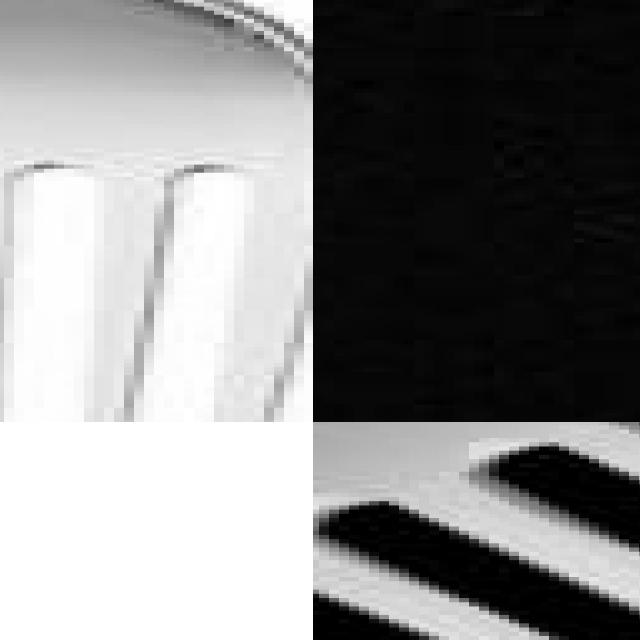forks: (0, 0, 313, 422), (313, 422, 640, 640)
